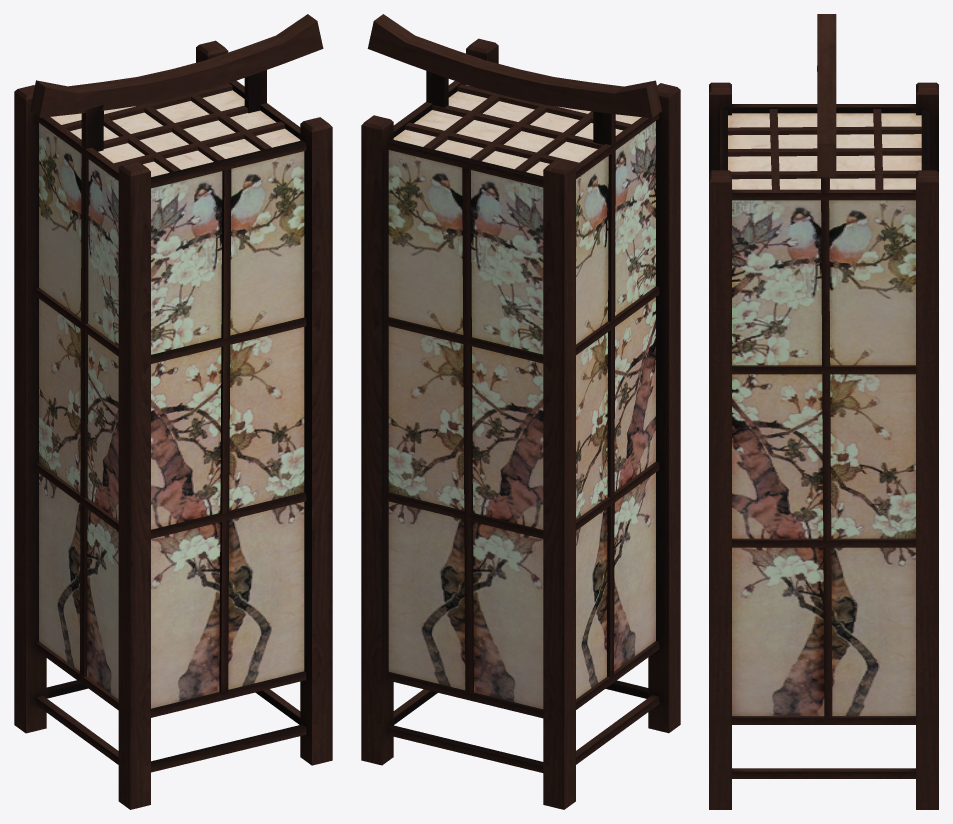
File: Lantern3.b.fbx
3 views of the same model, side by side, from view 1: azimuth 30°, elevation 25°; view 2: azimuth 150°, elevation 25°; view 3: azimuth 270°, elevation 25° (orthographic).
Parts seen in each view (by area): view 1: Group 0; view 2: Group 0; view 3: Group 0.
Part boxes in pixels (left/top/right/bottom): Group 0: left=14, top=14, right=332, bottom=809; Group 0: left=361, top=14, right=680, bottom=809; Group 0: left=709, top=14, right=938, bottom=809.
Size of the model in its own units: 31.66 by 73.53 by 22.42.
Materials: 2 (2 with a texture image).
